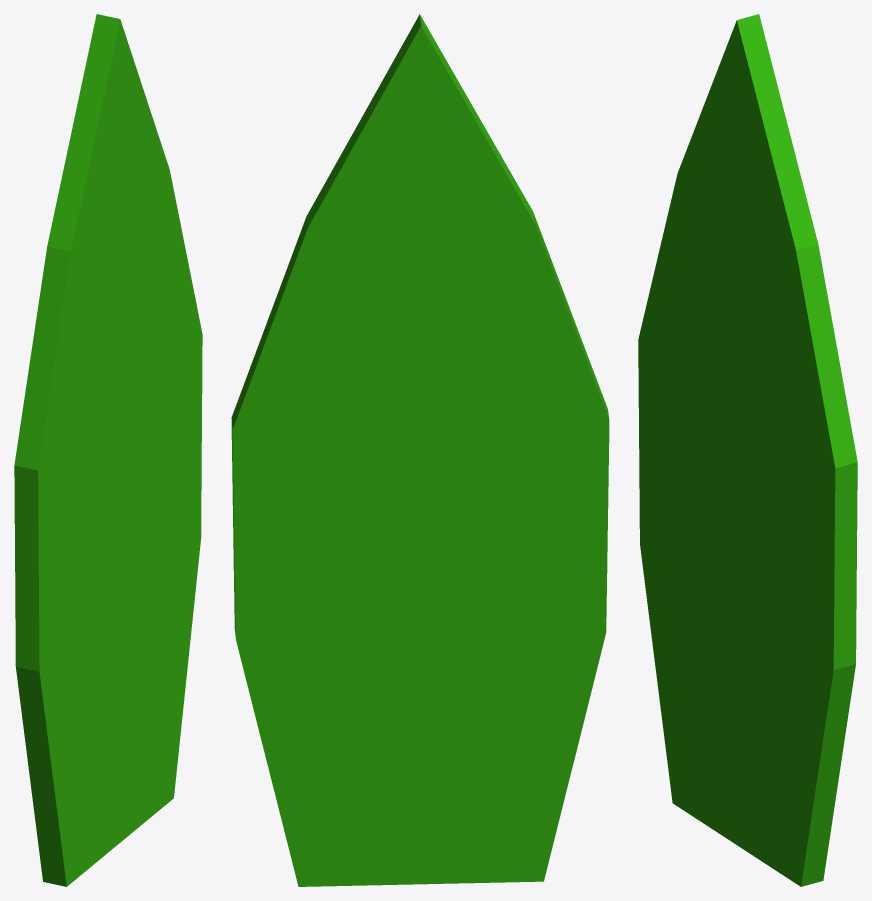
File: Rigged Grass Export 29.fbx
The picture shows the model from 3 angles, left to right: view 1: azimuth 30°, elevation 25°; view 2: azimuth 150°, elevation 25°; view 3: azimuth 270°, elevation 25°; orthographic projection. The views are drawn at different scales.
Visible parts, largest first — view 1: Grass 4 Left Left 3; view 2: Grass 4 Left Left 3; view 3: Grass 4 Left Left 3.
Boxes of the visible parts, x1,y1,x2,y2 form: Grass 4 Left Left 3: [14, 14, 202, 886]; Grass 4 Left Left 3: [231, 14, 609, 886]; Grass 4 Left Left 3: [638, 14, 857, 886].
Size of the model in its own units: 116 by 331 by 79.89.
